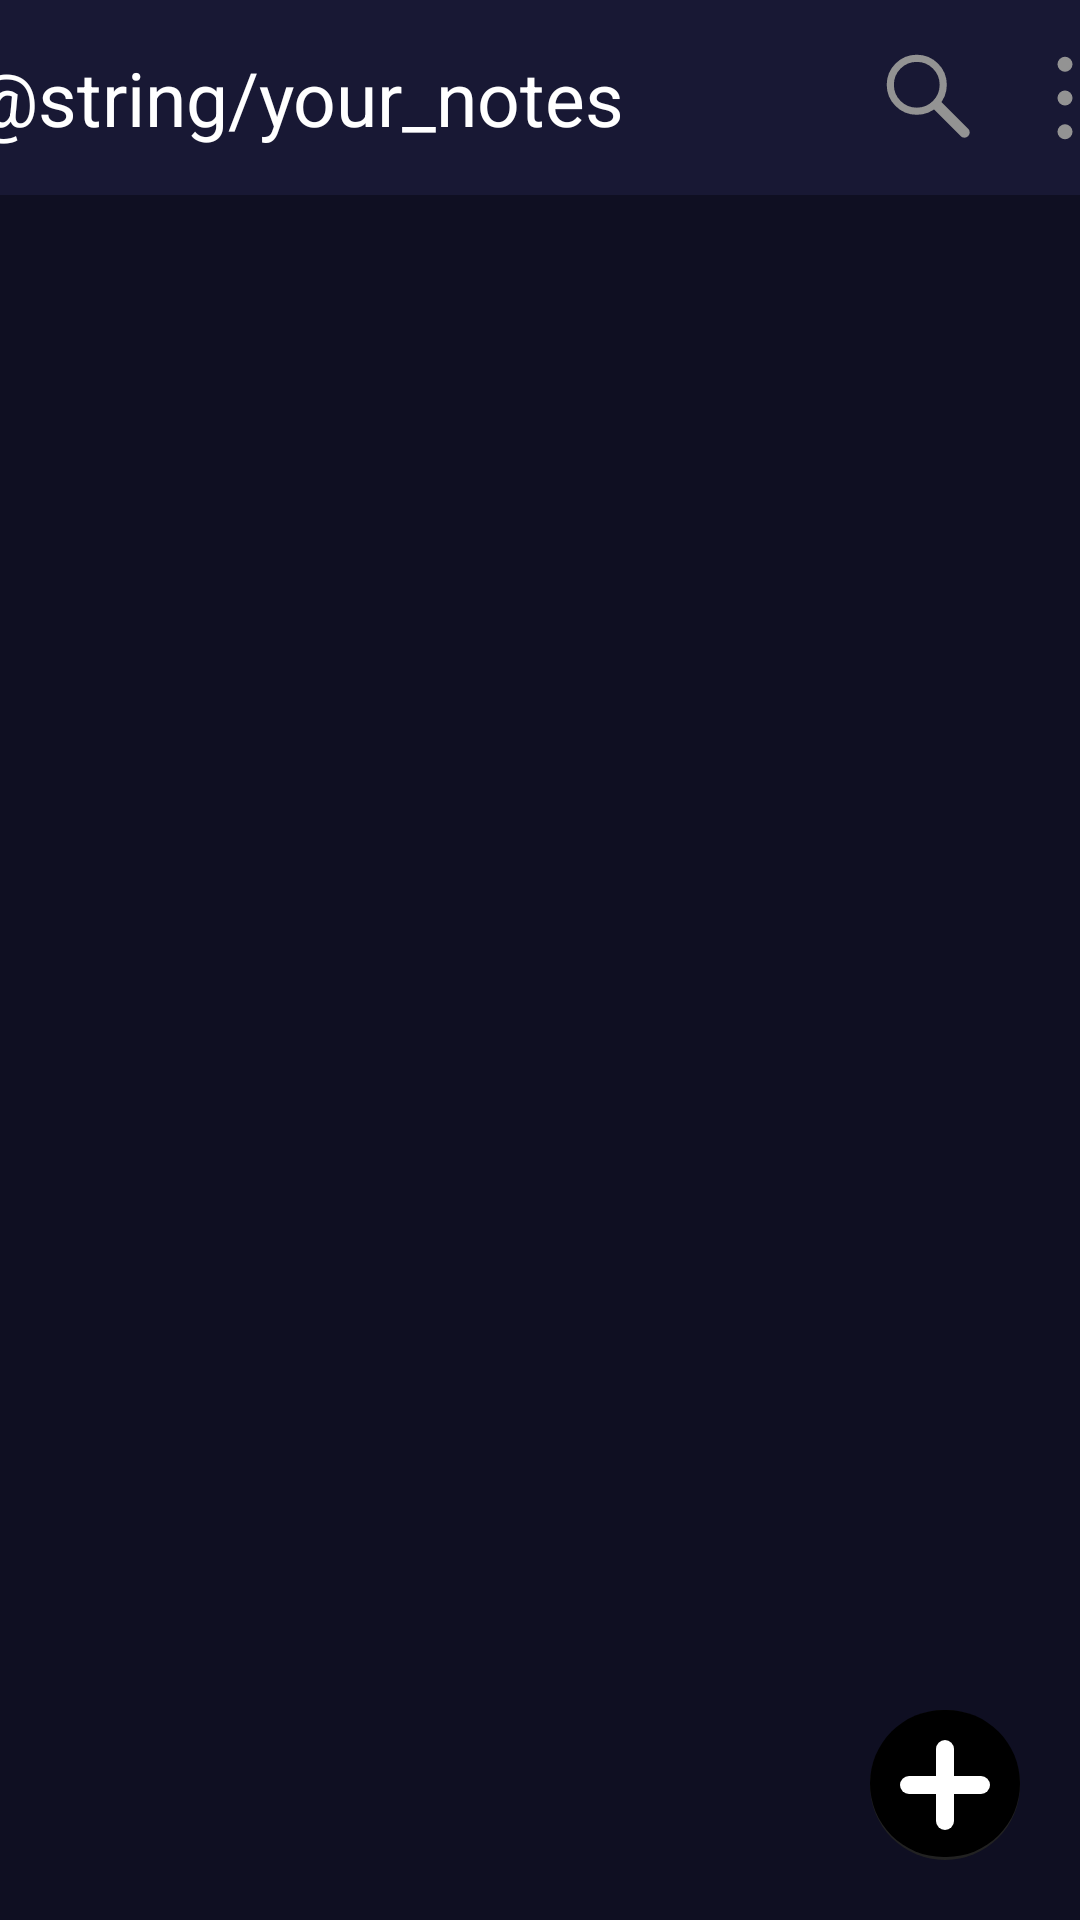

Locate icon controls on the screen. Image size 1080 x 1920, boxes as (x1, y1, x2, y2).
cross: (900, 1740, 990, 1830)
magnifying glass: (886, 54, 970, 138)
